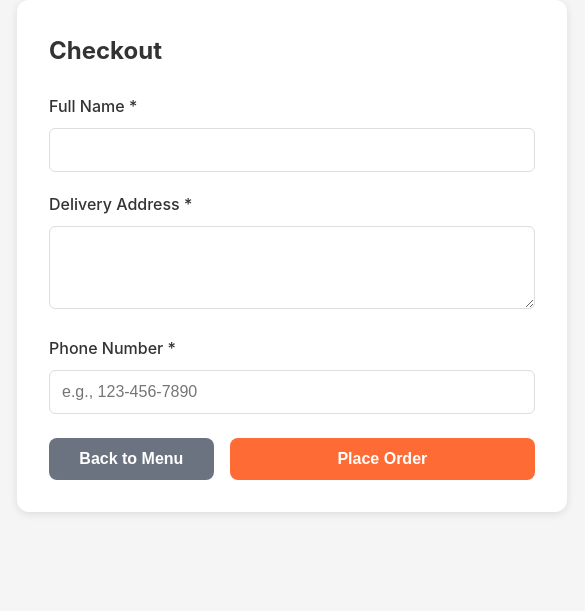
Scenario: CheckoutForm › shows error for invalid phone format
In the field labelled "Phone Number *": (292, 392) [49,370,535,414], type "invalid"
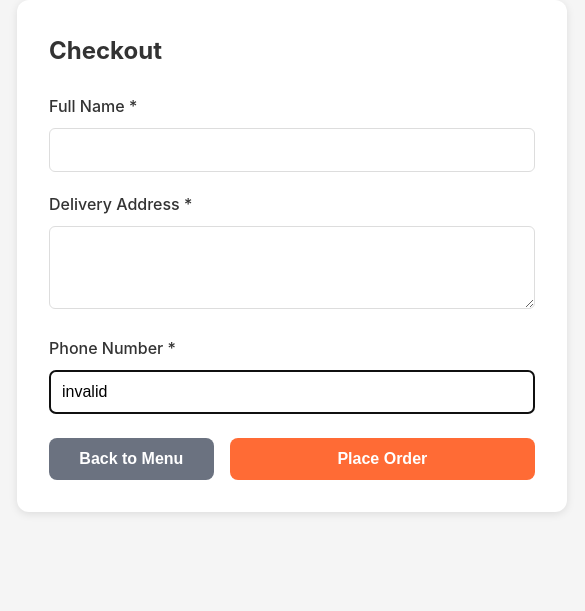
Click the button "Place Order": click(382, 459) [230,438,535,480]
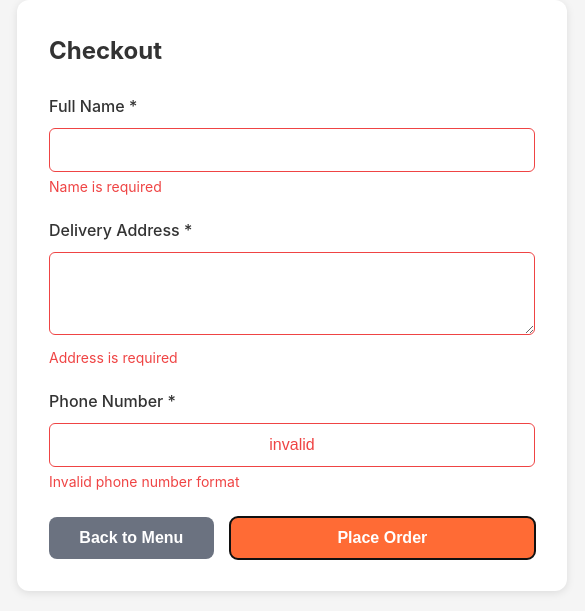
Check: the text "Invalid phone number format" is shown, box [49,472,240,490]
